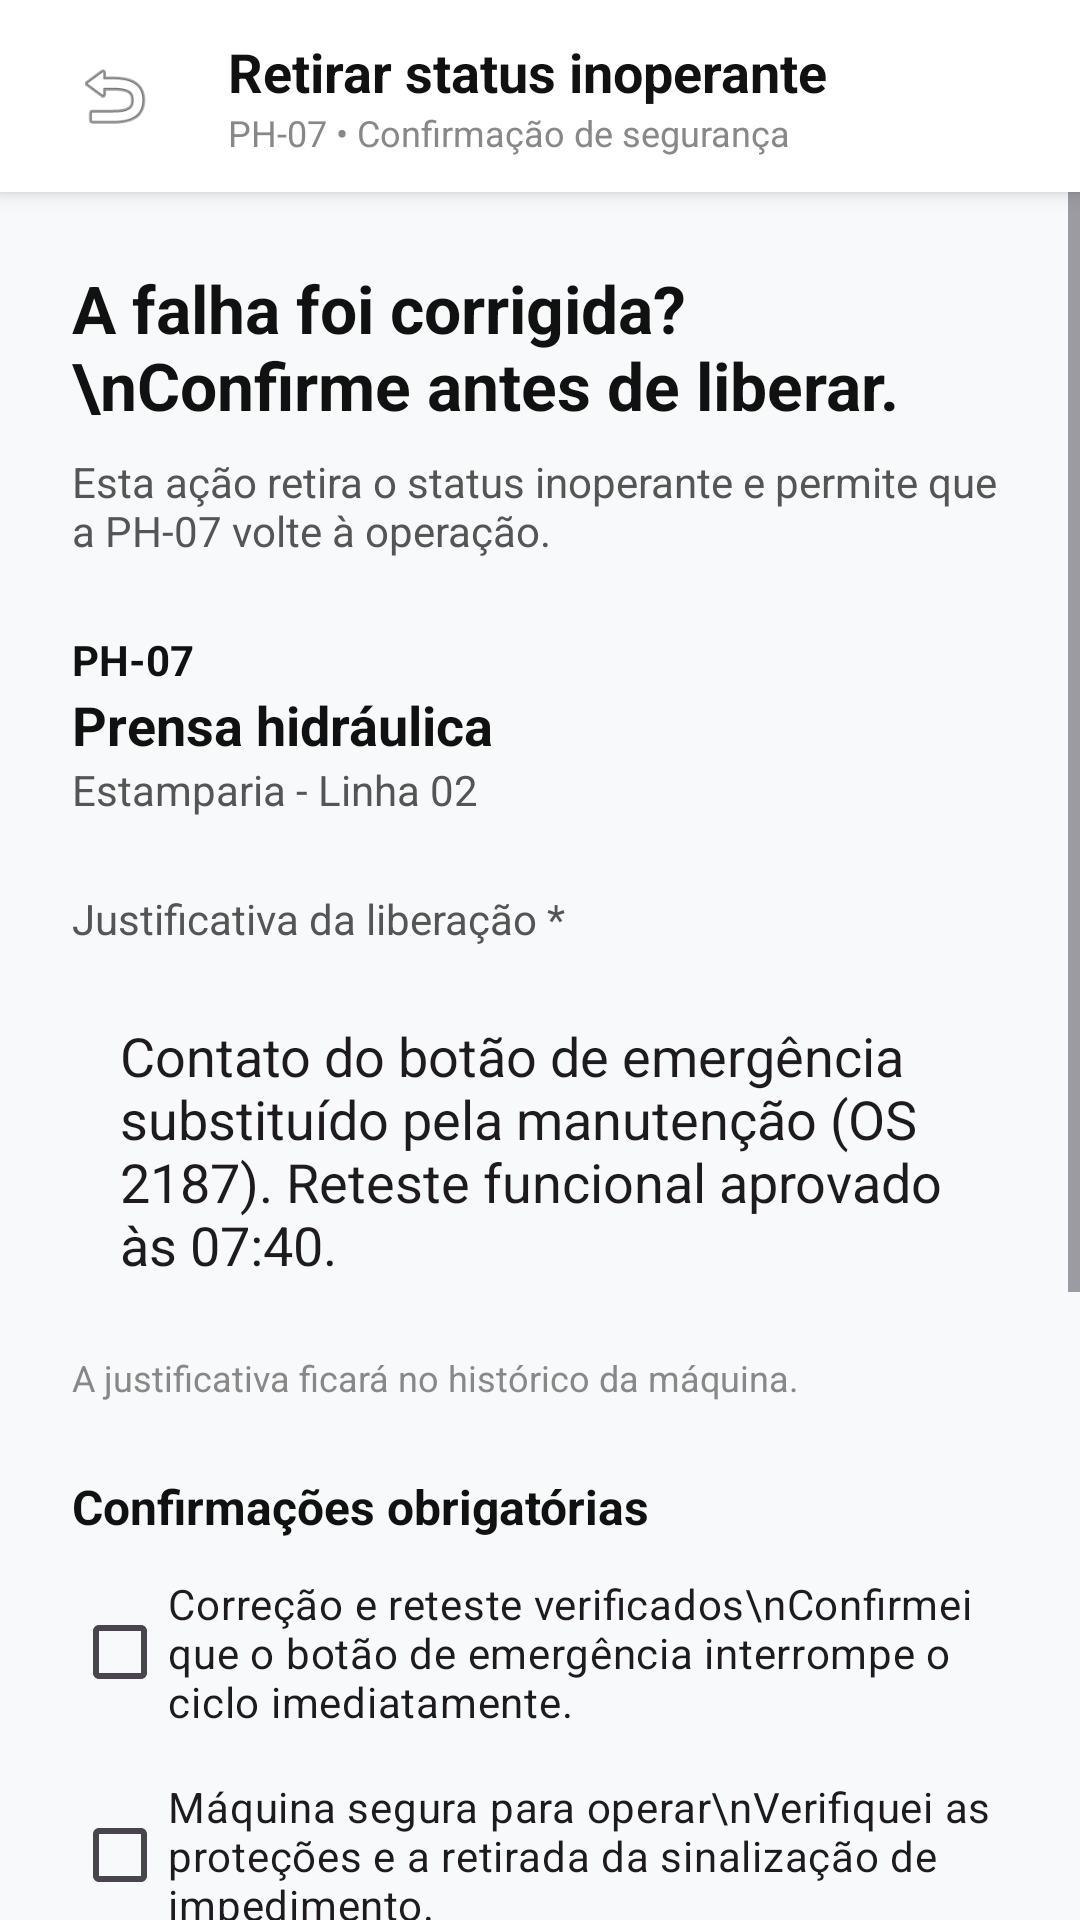

Icon click points for this 1080px×1920px phone screenshot, format [x,y]:
revert: [115,96]
